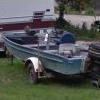Boat: (2, 16, 94, 83)
